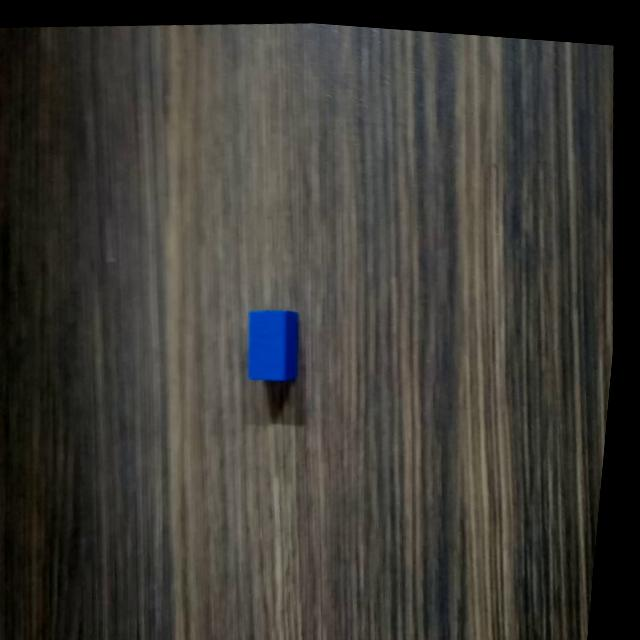cube: (244, 297, 314, 385)
